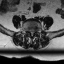CCS_normal: (31, 30, 32, 37)
LFS_severe_stenosis: (34, 29, 36, 34)
LLS_severe_stenosis: (32, 30, 34, 35)
RFS_severe_stenosis: (27, 29, 29, 34)
RLS_severe_stenosis: (29, 30, 31, 35)
